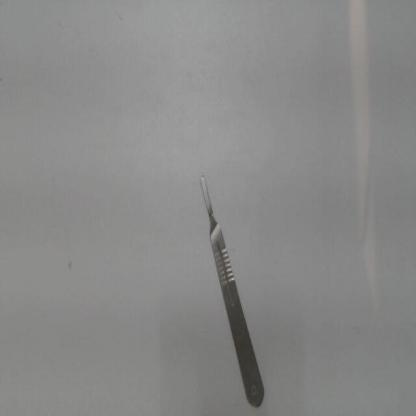No.4 BP Handle: (181, 160, 271, 414)
